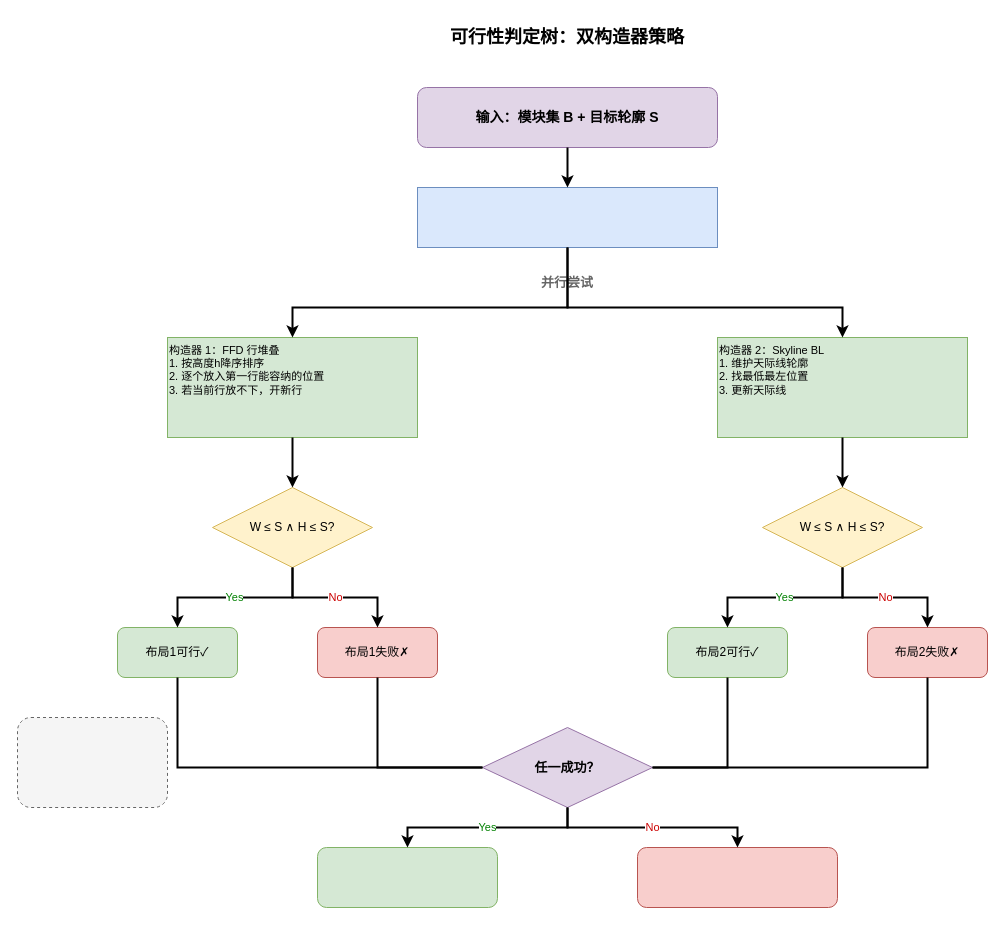
Image size: 1005x925. Some labels were removed from this diagram. Here are the shapes that lost their labels. From the top down, the centre of each, then its label:
the point at 567,217: 预处理：长条旋转 AR ≥ 2.5 → (max(w,h), min(w,h))
the point at 92,762: 💡 best-of-N 策略： N=2（FFD + Skyline） 选gap最小的布局
the point at 407,877: 返回：可行✓ (取gap最小的布局)
the point at 737,877: 返回：不可行✗ (所有构造器均失败)
